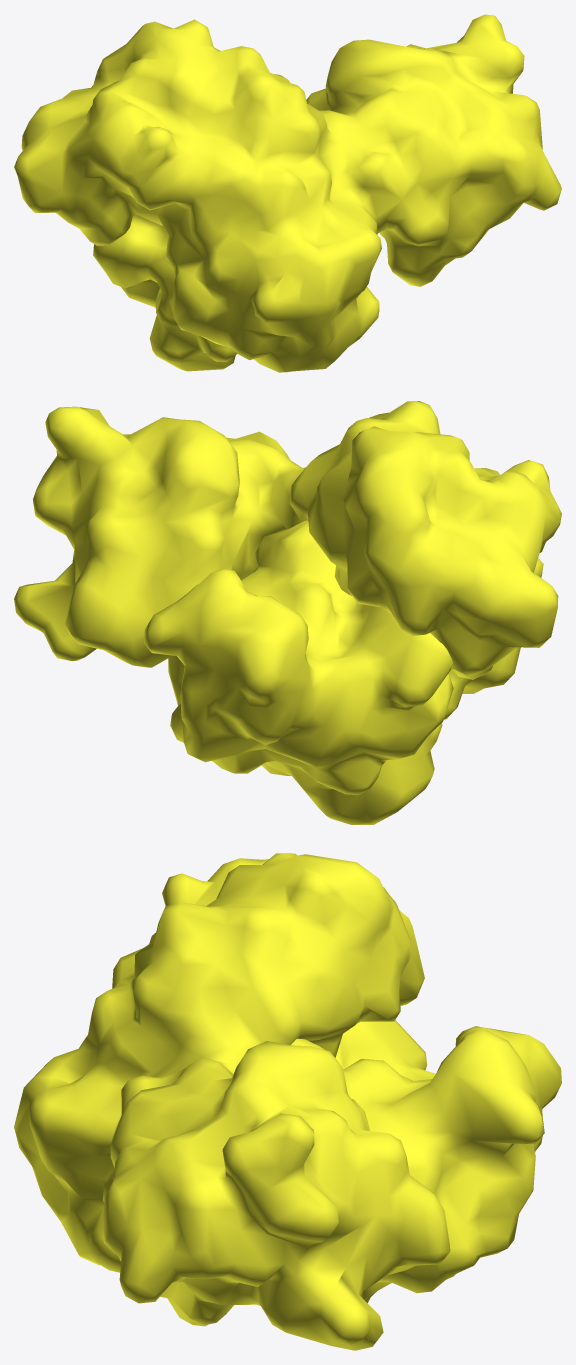
File: Cytokine.glb
The picture shows the model from 3 angles, top to bottom: view 1: azimuth 30°, elevation 25°; view 2: azimuth 150°, elevation 25°; view 3: azimuth 270°, elevation 25°; orthographic projection. The views are drawn at different scales.
Visible parts, largest first — view 1: Cytokine; view 2: Cytokine; view 3: Cytokine.
Boxes of the visible parts, x1,y1,x2,y2 form: Cytokine: [14, 14, 561, 372]; Cytokine: [14, 401, 561, 824]; Cytokine: [14, 853, 561, 1350].
Size of the model in its own units: 5.78 by 4.04 by 4.57.
1 material, 1 textured.
